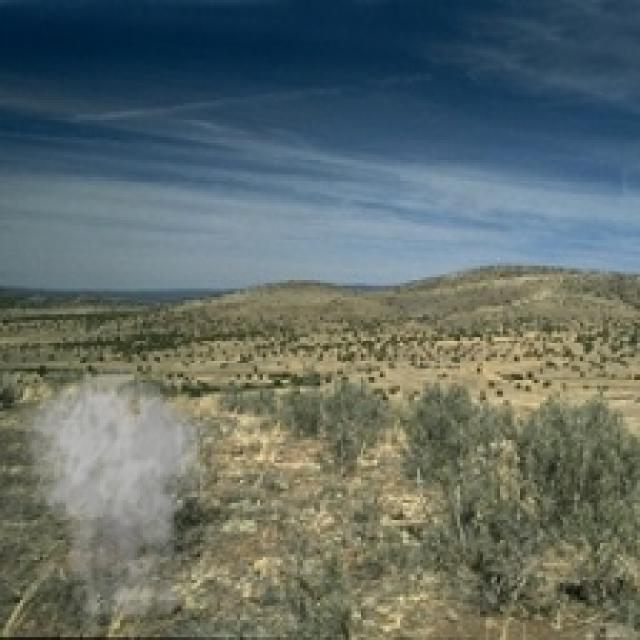Smoke: (17, 362, 220, 638)
